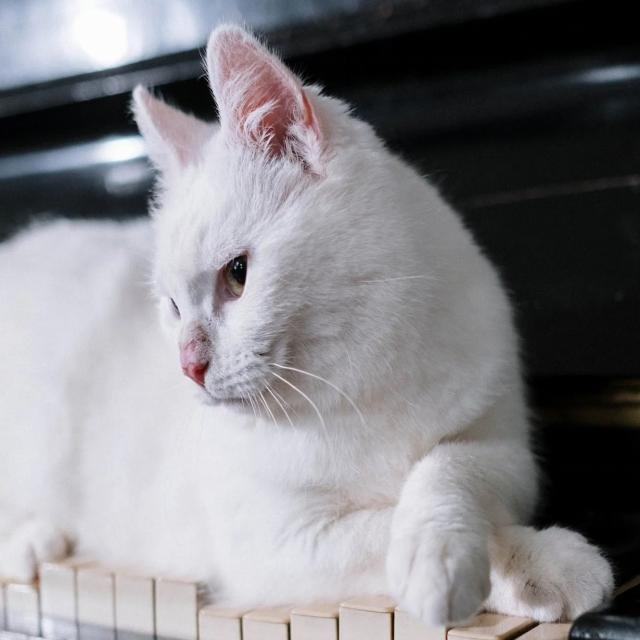cat: (0, 21, 617, 634)
